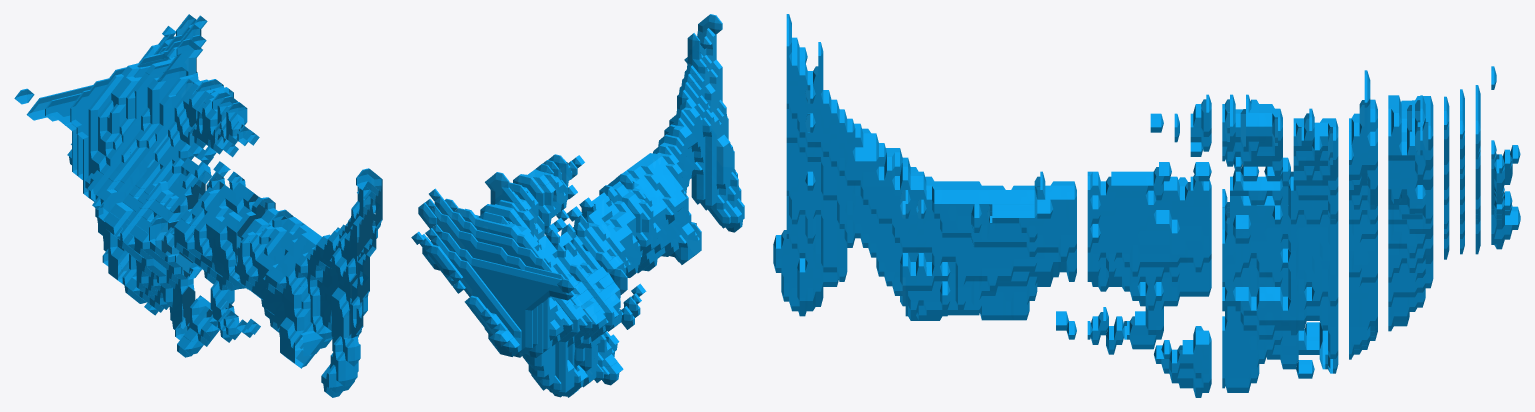
Rendered from SVV_BWM-DL02.gltf.
The picture shows the model from 3 angles, left to right: view 1: azimuth 30°, elevation 25°; view 2: azimuth 150°, elevation 25°; view 3: azimuth 270°, elevation 25°; orthographic projection. The views are drawn at different scales.
Parts seen in each view (by area): view 1: BWM-DL02; view 2: BWM-DL02; view 3: BWM-DL02.
Part boxes in pixels (x1,y1,x2,y2): BWM-DL02: [14, 14, 382, 397]; BWM-DL02: [411, 14, 744, 397]; BWM-DL02: [773, 14, 1520, 397].
Size of the model in its own units: 13828 by 21512 by 36243.
